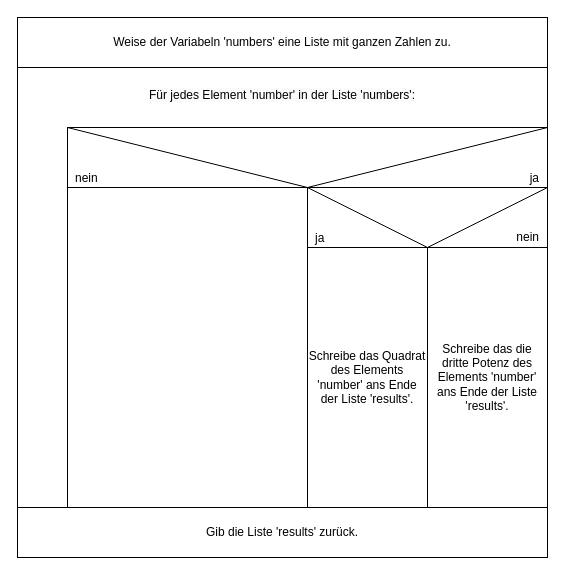
Image size: 565x575. Some labels were removed from this diagram. The shapes that lost their labels are listed below. From the top down, each one's box as (x1, y1, x2, y2) in pixels, then its label:
(66, 126, 548, 188): Ist das Element 'number' ein int?
(306, 186, 548, 248): Ist das Element 'number' durch 2 teilbar?
(66, 186, 308, 508): Schreibe 'unzulässiger Input' ans Ende der Liste 'results'.
